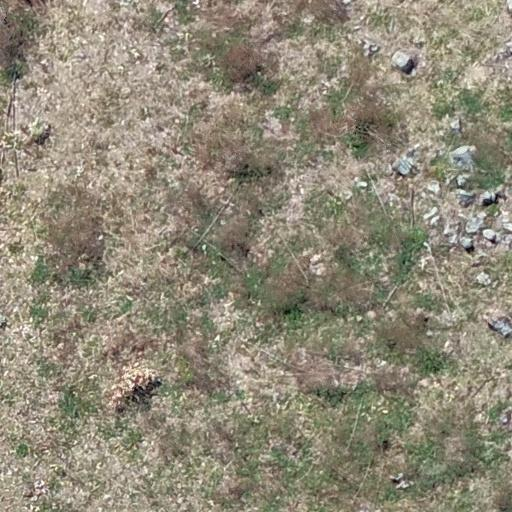stone: (484, 306, 512, 341), (389, 470, 410, 498), (356, 38, 384, 59), (302, 244, 323, 272), (451, 146, 477, 165), (451, 189, 475, 207), (424, 209, 444, 230), (26, 121, 52, 137), (393, 48, 410, 71), (464, 217, 484, 234), (392, 157, 412, 173), (444, 217, 457, 240), (479, 189, 498, 203), (458, 236, 473, 251), (476, 270, 490, 286), (482, 228, 497, 242), (352, 180, 368, 193), (491, 52, 511, 62), (447, 116, 462, 129)
